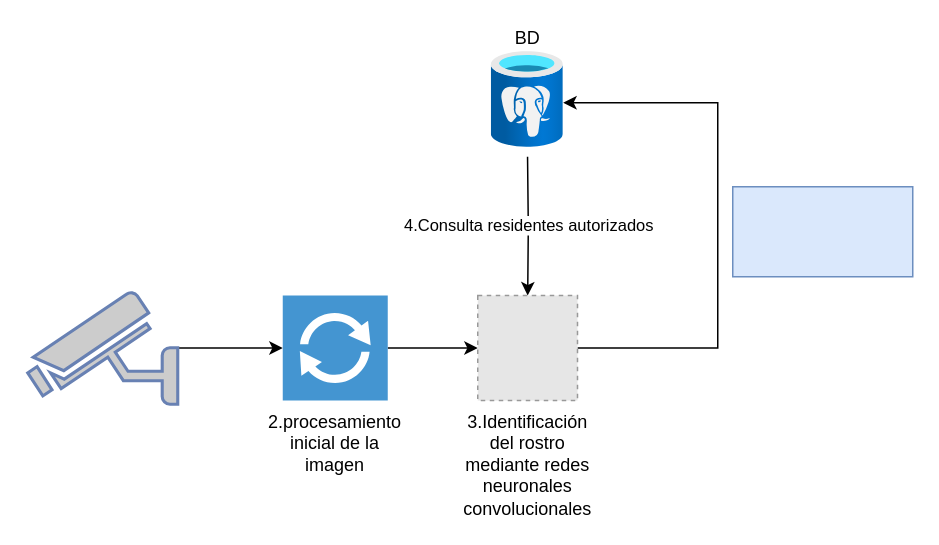
This 939x545 diagram has some shape labels left out. Grey dashed boxes stand in for pictures. The box of each missing label's shape, as (x1, y1, x2, y2) in pixels:
1.Capturar imagen por cámara: (26, 290, 178, 405)
5.Se guarda la información: (731, 185, 913, 277)
